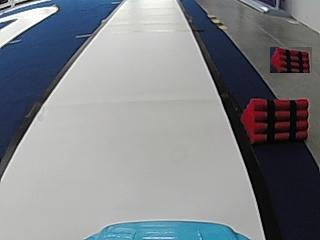bomb: (243, 98, 309, 142)
